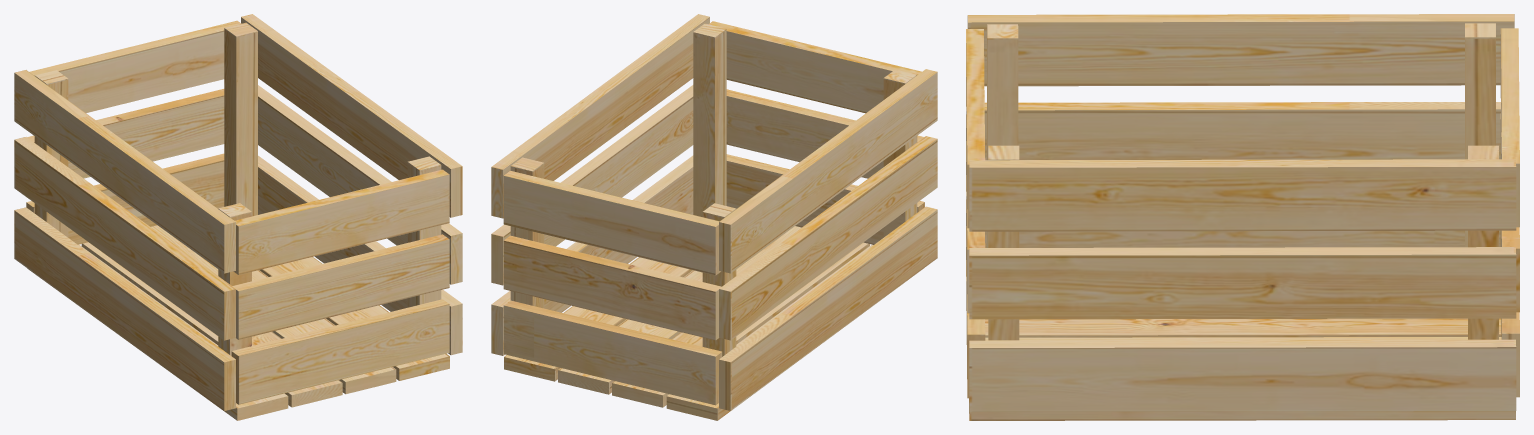
File: cajon singular.glb
3 views of the same model, side by side, from view 1: azimuth 30°, elevation 25°; view 2: azimuth 150°, elevation 25°; view 3: azimuth 270°, elevation 25° (orthographic). The views are drawn at different scales.
Parts seen in each view (by area): view 1: 3; view 2: 3; view 3: 3.
Boxes of the visible parts, x1,y1,x2,y2 form: 3: [14, 14, 462, 420]; 3: [491, 14, 937, 420]; 3: [966, 14, 1519, 420].
Size of the model in its own units: 1.99 by 1.58 by 3.03.
Materials: 1 (1 with a texture image).
